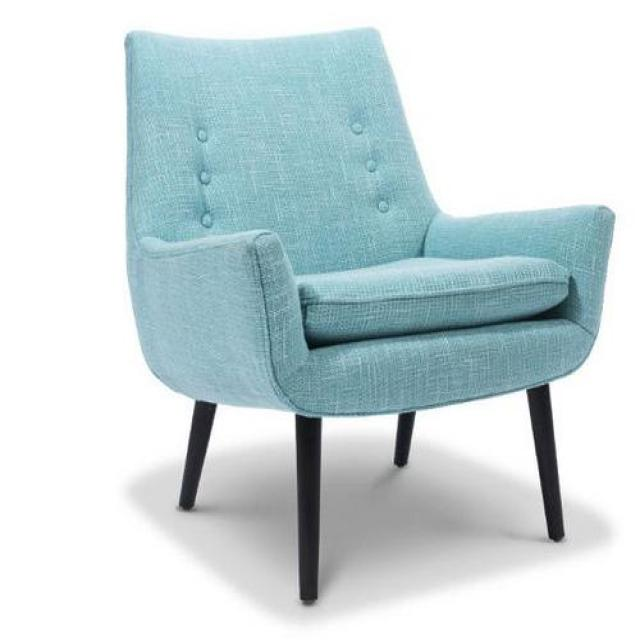chair: (122, 22, 616, 606)
